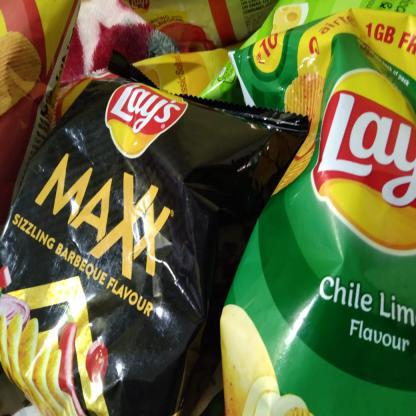chile_limon: (245, 40, 415, 415)
maxx_sizzling_barbeque: (23, 67, 202, 411)
